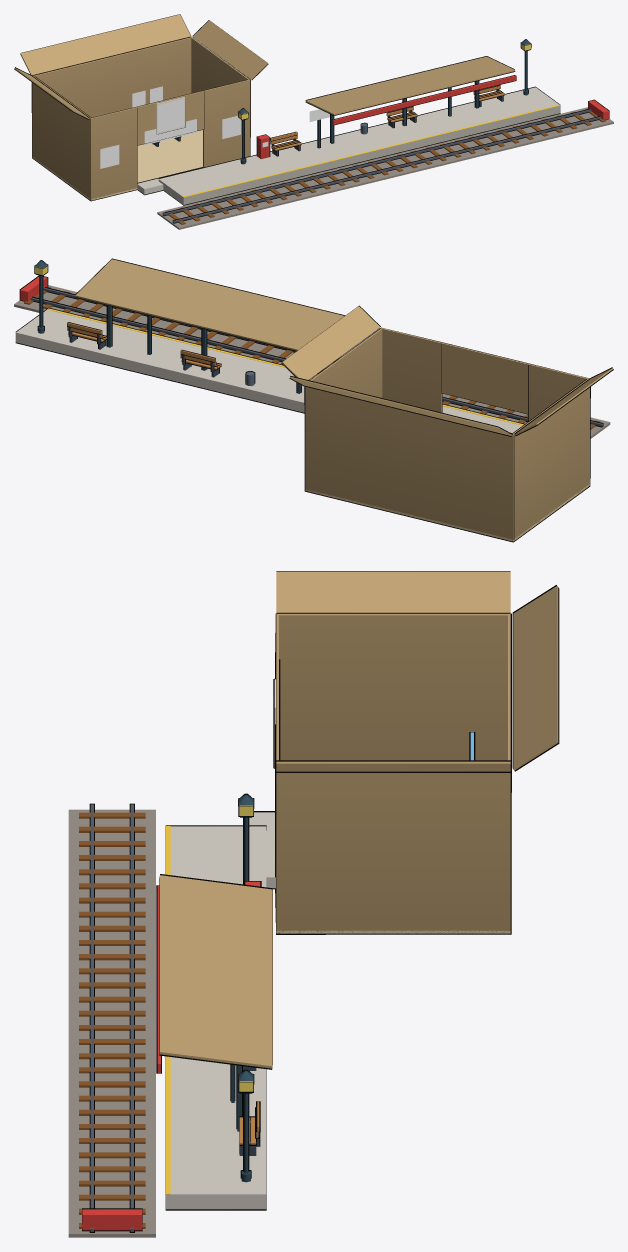
File: BR_Bahnhof.glb
3 renders of one model, top to bottom at view 1: azimuth 30°, elevation 25°; view 2: azimuth 150°, elevation 25°; view 3: azimuth 270°, elevation 25°, orthographic. The views are drawn at different scales.
Visible parts, largest first — view 1: BR_Bahnhof_Mesh, BR_Bahnhof_Outline; view 2: BR_Bahnhof_Mesh, BR_Bahnhof_Outline; view 3: BR_Bahnhof_Mesh, BR_Bahnhof_Outline.
Boxes of the visible parts, box(x1,y1,x2,y2) form: BR_Bahnhof_Mesh: box(14, 14, 613, 229); BR_Bahnhof_Outline: box(14, 14, 609, 223); BR_Bahnhof_Mesh: box(14, 259, 613, 541); BR_Bahnhof_Outline: box(15, 258, 613, 542); BR_Bahnhof_Mesh: box(68, 572, 558, 1237); BR_Bahnhof_Outline: box(82, 571, 559, 1232).
Size of the model in its own units: 33.77 by 6.41 by 14.65.
